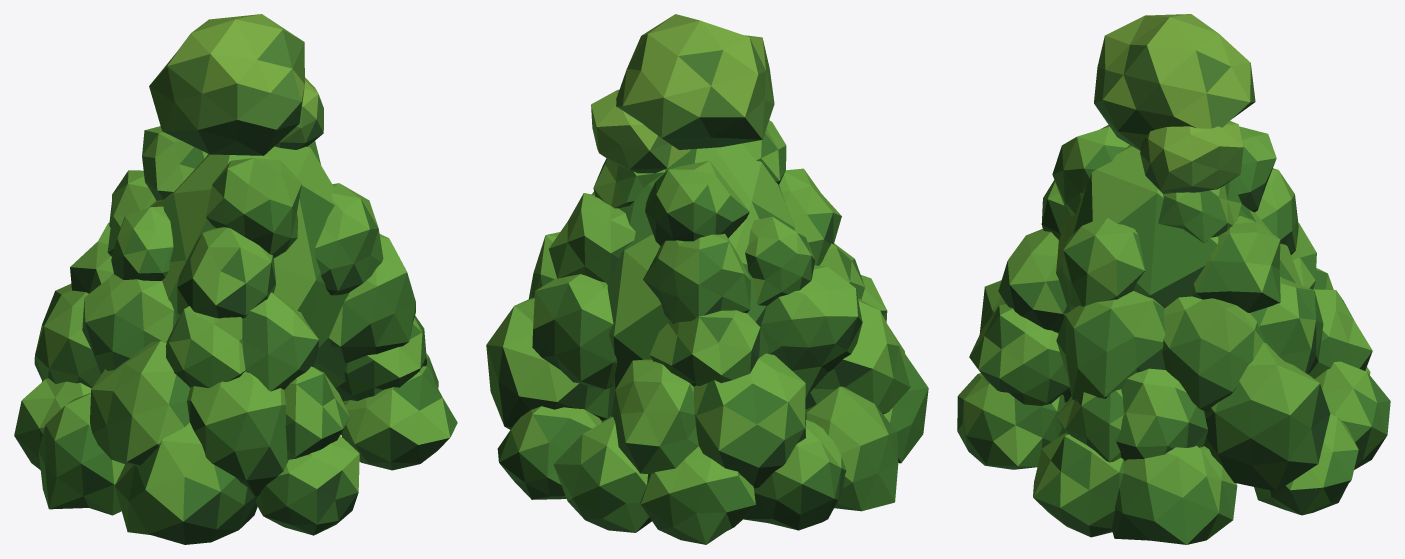
The model's file is T11_VineSmotheredThicket.glb.
3 views of the same model, side by side, from view 1: azimuth 30°, elevation 25°; view 2: azimuth 150°, elevation 25°; view 3: azimuth 270°, elevation 25° (orthographic).
Parts seen in each view (by area): view 1: T11_VineSmotheredThicket; view 2: T11_VineSmotheredThicket; view 3: T11_VineSmotheredThicket.
Boxes of the visible parts, box(x1,y1,x2,y2) form: T11_VineSmotheredThicket: box(14, 14, 457, 544); T11_VineSmotheredThicket: box(486, 14, 928, 544); T11_VineSmotheredThicket: box(957, 14, 1390, 544).
Bounding box in the file's own units: 7.31 × 8.05 × 7.02.
